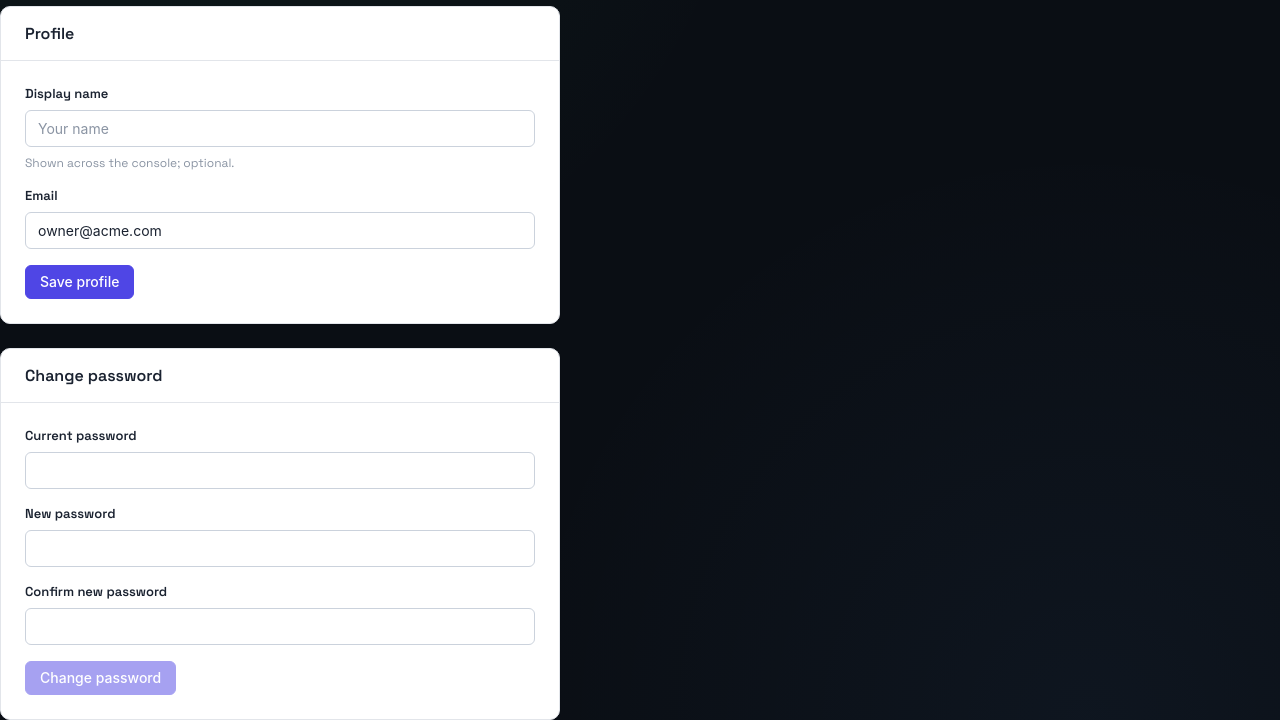
Test case: ProfileScreen password change (S96) › shows a mismatch error and keeps the button disabled
(page scrolled)
Type "oldpass1" into the password field with test id "p-current". click: (280, 471)
box: [25,452,535,489]
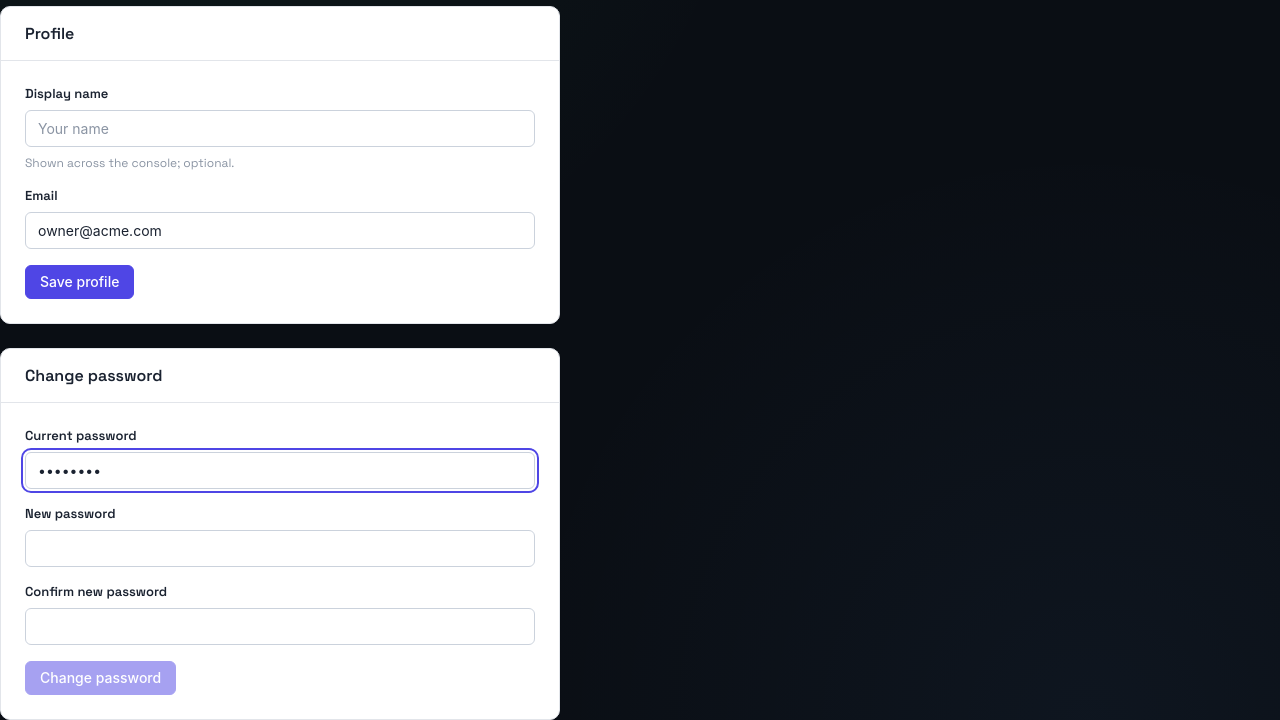
Type "newpass123" into the password field with test id "p-new". click: (280, 549)
box: [25,530,535,567]
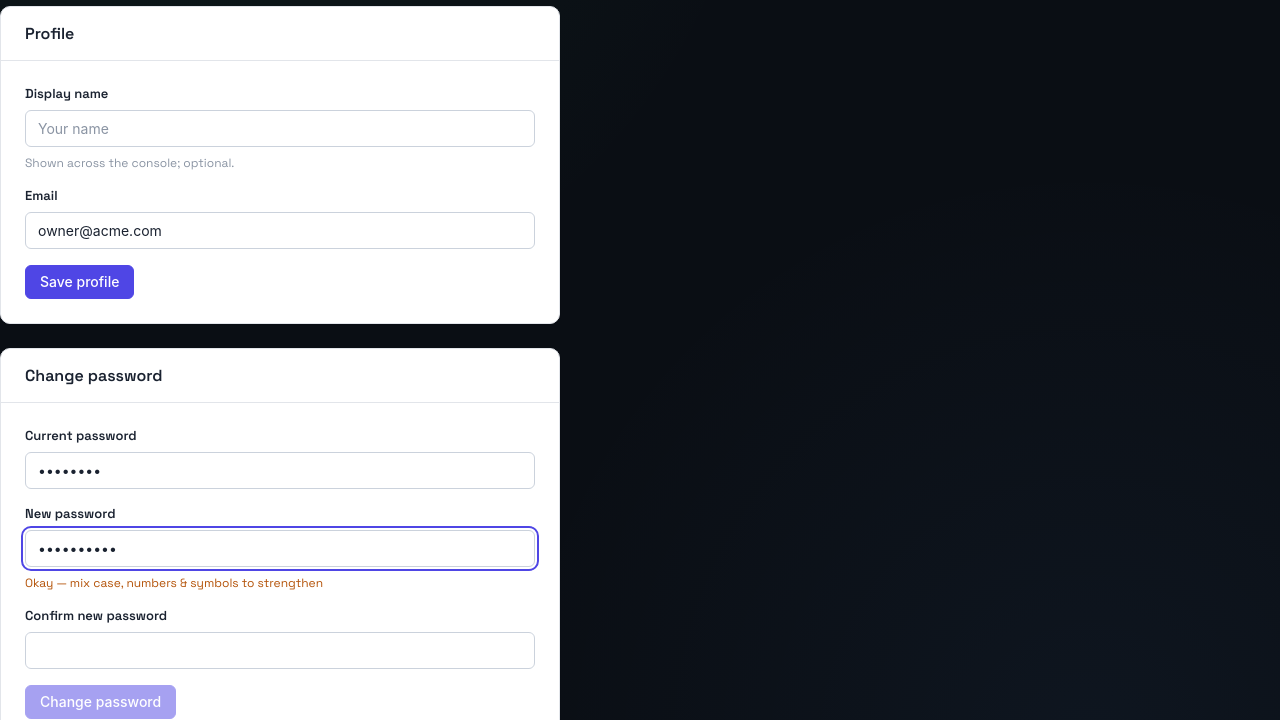
Type "different1" into the password field with test id "p-confirm". click: (280, 651)
box: [25,632,535,669]
(page scrolled)
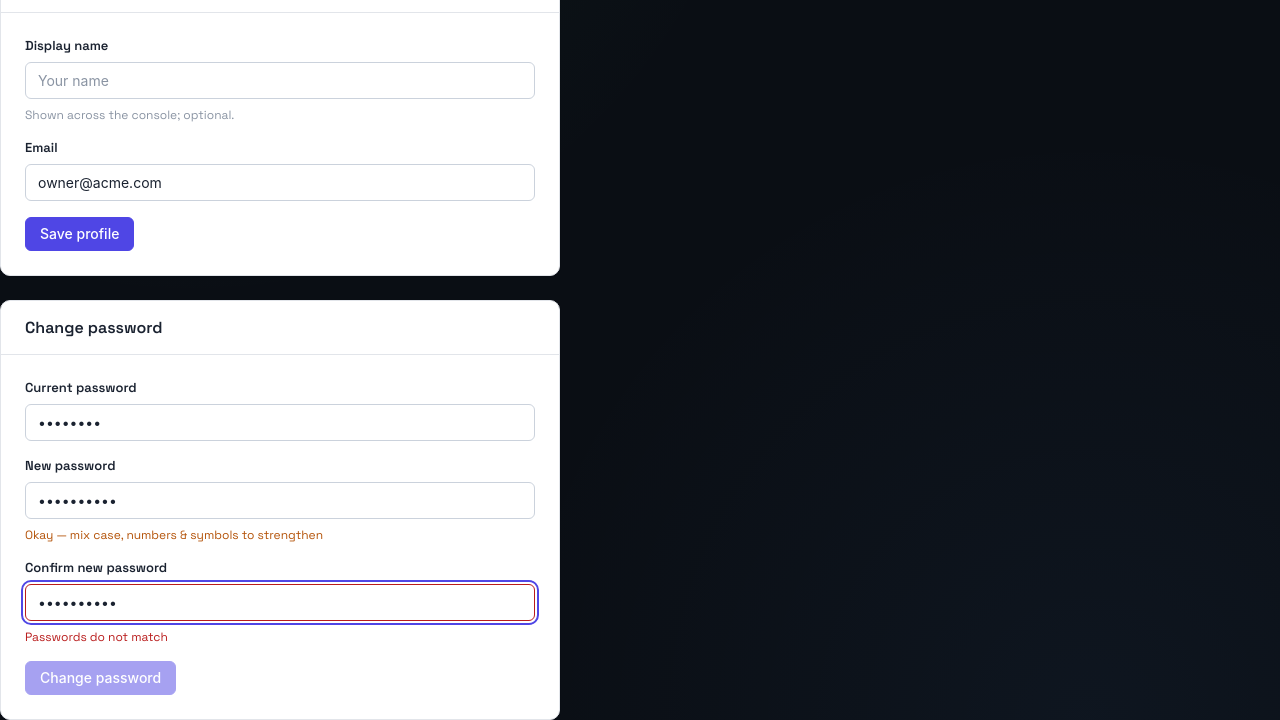
Expected: the button with test id "pw-save" is disabled, [25,661,176,695]
Expected: the text "Passwords do not match" is shown, [25,629,168,645]
